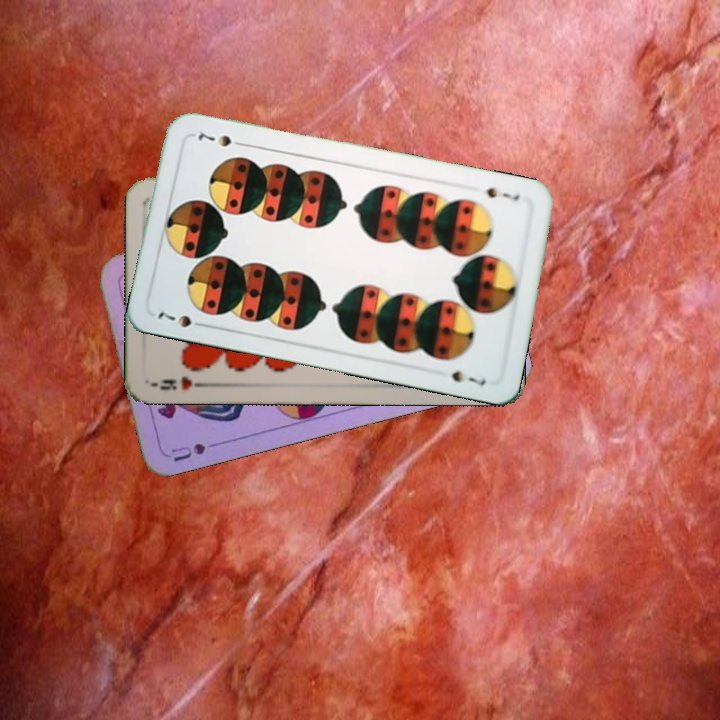H9: (156, 372, 208, 392)
S7: (154, 307, 210, 330), (482, 183, 523, 204)
SU: (167, 439, 226, 465)
